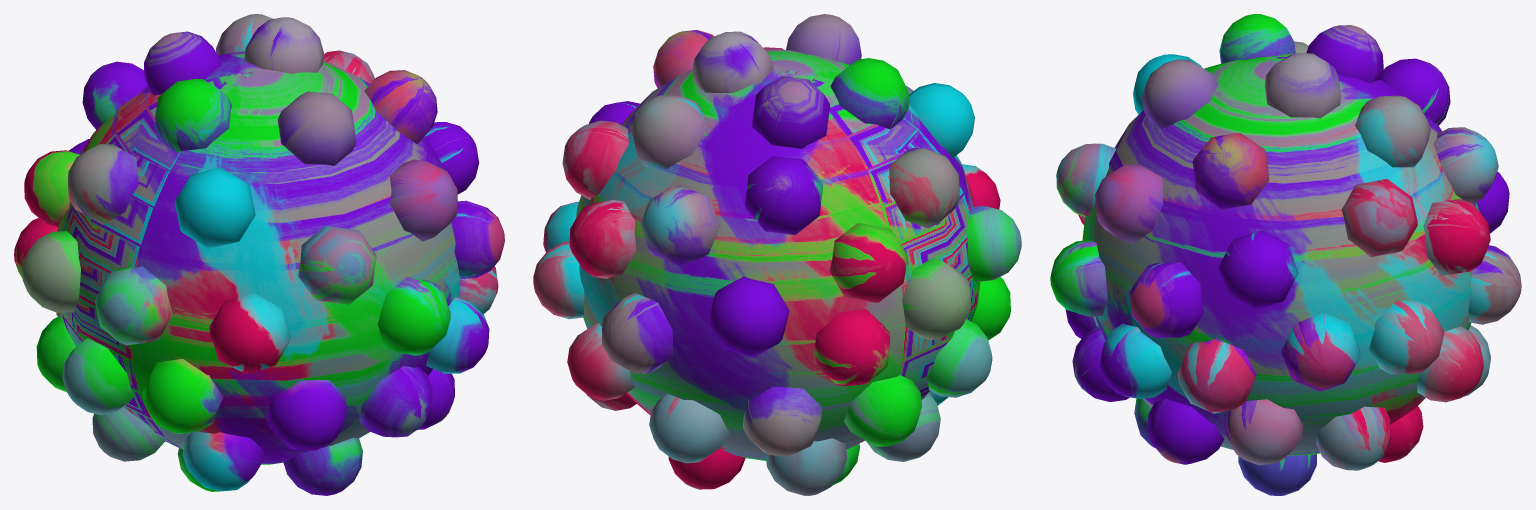
File: Bubble Toy.fbx
3 views of the same model, side by side, from view 1: azimuth 30°, elevation 25°; view 2: azimuth 150°, elevation 25°; view 3: azimuth 270°, elevation 25° (orthographic). The views are drawn at different scales.
Parts seen in each view (by area): view 1: Basketball_Ball_Skin_Toy_Bubble.026; view 2: Basketball_Ball_Skin_Toy_Bubble.026; view 3: Basketball_Ball_Skin_Toy_Bubble.026.
Part boxes in pixels (<box>): Basketball_Ball_Skin_Toy_Bubble.026: <box>14,14,504,495</box>; Basketball_Ball_Skin_Toy_Bubble.026: <box>533,14,1021,495</box>; Basketball_Ball_Skin_Toy_Bubble.026: <box>1050,14,1521,495</box>.
Bounding box in the file's own units: 0.2826 × 0.2818 × 0.2793.
Materials: 1 (1 with a texture image).
